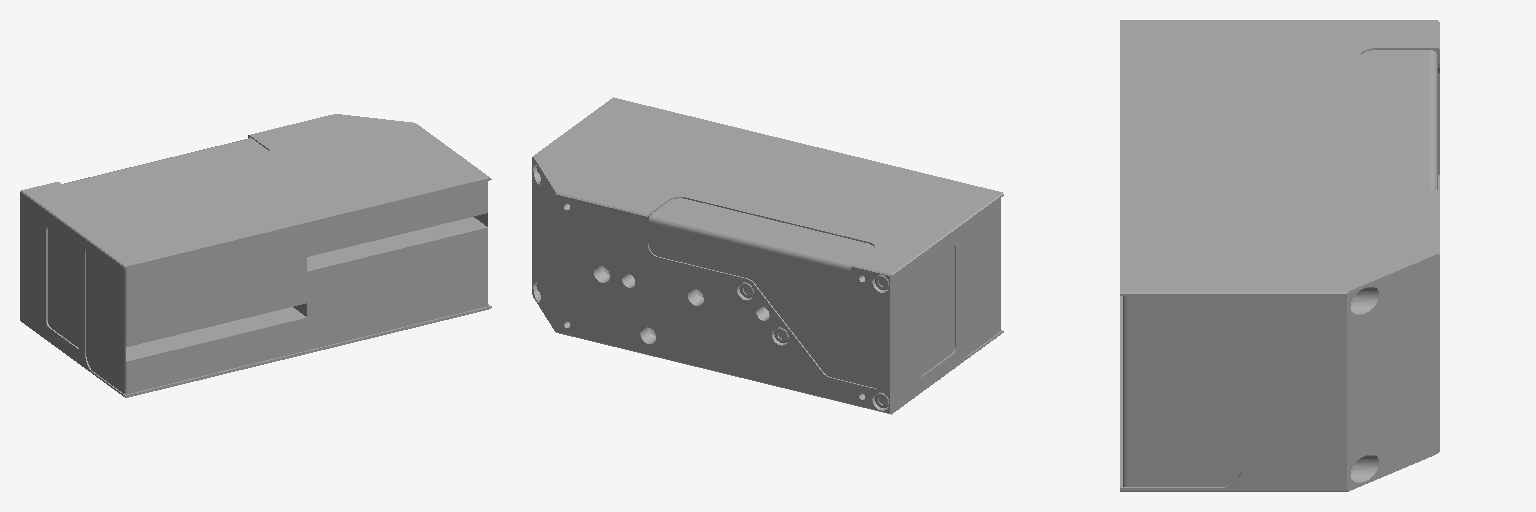
robot.urdf — wsg50:
<?xml version="1.0" encoding="utf-8"?>
<robot name="wsg50">
  <material name="wsg50_Gray">
    <color rgba="0.7 0.7 0.7 1.0"/>
  </material>
  <material name="wsg50_DarkGray">
    <color rgba="0.3 0.3 0.3 1.0"/>
  </material>
  <link name="wsg50_gripper_link">
    <visual>
      <origin rpy="0 0 0" xyz="0 0 0"/>
      <geometry>
        <mesh filename="package://wsg_description/meshes/wsg50_110.obj" scale="0.001 0.001 0.001"/>
      </geometry>
      <material name="wsg50_Gray"/>
    </visual>
    <collision>
      <geometry>
        <box size="0.146 0.0725 0.05"/>
      </geometry>
      <origin rpy="0.0 -0.0 0.0" xyz="0.0 -0.03625 0.0"/>
    </collision>
  </link>
</robot>

--- What the picture shows (computed from the rendered views, not written in the file) ---
The picture shows the robot from 3 angles, left to right: view 1: azimuth 30°, elevation 25°; view 2: azimuth 150°, elevation 25°; view 3: azimuth 270°, elevation 25°; orthographic projection.
Model wsg50 with 1 links and 0 joints (none), rooted at wsg50_gripper_link, posed every joint at zero.
Links seen in each view (by area): view 1: wsg50_gripper_link; view 2: wsg50_gripper_link; view 3: wsg50_gripper_link.
Boxes of the visible links, x1,y1,x2,y2 form: wsg50_gripper_link: (20,114,491,397); wsg50_gripper_link: (532,97,1003,414); wsg50_gripper_link: (1120,20,1439,491).
Size in the robot's own frame: 0.146 by 0.0725 by 0.05 metres.
Meshes: 1 distinct files referenced, 1 mesh visuals loaded (1 OBJ).